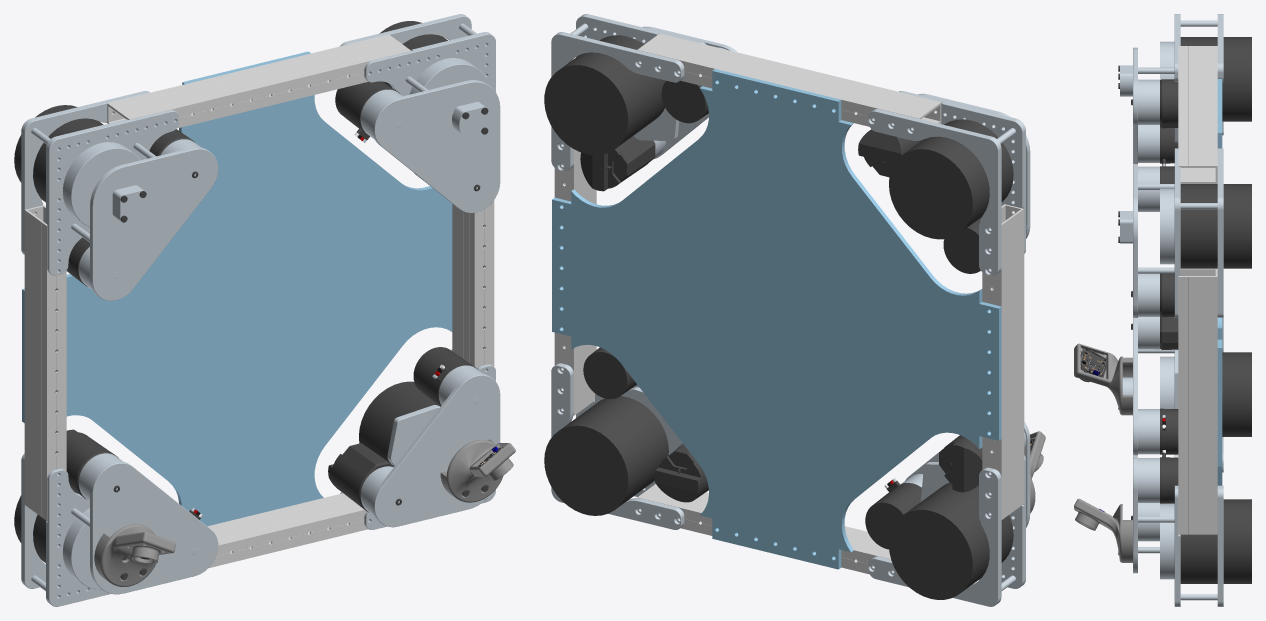
3 renders of one model, left to right at view 1: azimuth 30°, elevation 25°; view 2: azimuth 150°, elevation 25°; view 3: azimuth 270°, elevation 25°, orthographic. The views are drawn at different scales.
Parts seen in each view (by area): view 1: Part 1, Simplified MK4i (×4), Aluminum VersaFrame (×4), 6328-24b-1011 Right Wide Angle Camera Mount, 6328-24b-1010 Left Wide Angle Camera Mount; view 2: Part 1, Simplified MK4i (×4), Aluminum VersaFrame (×4); view 3: Simplified MK4i (×4), Aluminum VersaFrame (×2), 6328-24b-1011 Right Wide Angle Camera Mount, 6328-24b-1010 Left Wide Angle Camera Mount, Part 1, Open CASCADE STEP translator 6.8 1.1.1.step.
Boxes of the visible parts, x1,y1,x2,y2 form: Part 1: (22, 51, 452, 526); Simplified MK4i (×4): (14, 14, 500, 606); Aluminum VersaFrame (×4): (24, 34, 494, 568); 6328-24b-1011 Right Wide Angle Camera Mount: (94, 524, 175, 586); 6328-24b-1010 Left Wide Angle Camera Mount: (440, 439, 515, 502); Part 1: (552, 69, 1001, 569); Simplified MK4i (×4): (544, 14, 1030, 606); Aluminum VersaFrame (×4): (554, 33, 1024, 574); Simplified MK4i (×4): (1118, 14, 1251, 606); Aluminum VersaFrame (×2): (1178, 46, 1217, 534); 6328-24b-1011 Right Wide Angle Camera Mount: (1074, 343, 1132, 415); 6328-24b-1010 Left Wide Angle Camera Mount: (1074, 498, 1132, 562); Part 1: (1217, 79, 1222, 485); Open CASCADE STEP translator 6.8 1.1.1.step: (1080, 348, 1106, 377).
Size of the model in its own units: 0.5842 by 0.5842 by 0.2301.
